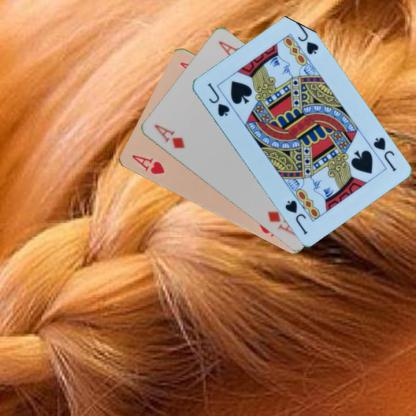Ad: (151, 122, 186, 150)
Ah: (129, 152, 167, 176)
Js: (370, 134, 397, 173), (204, 80, 230, 118)
